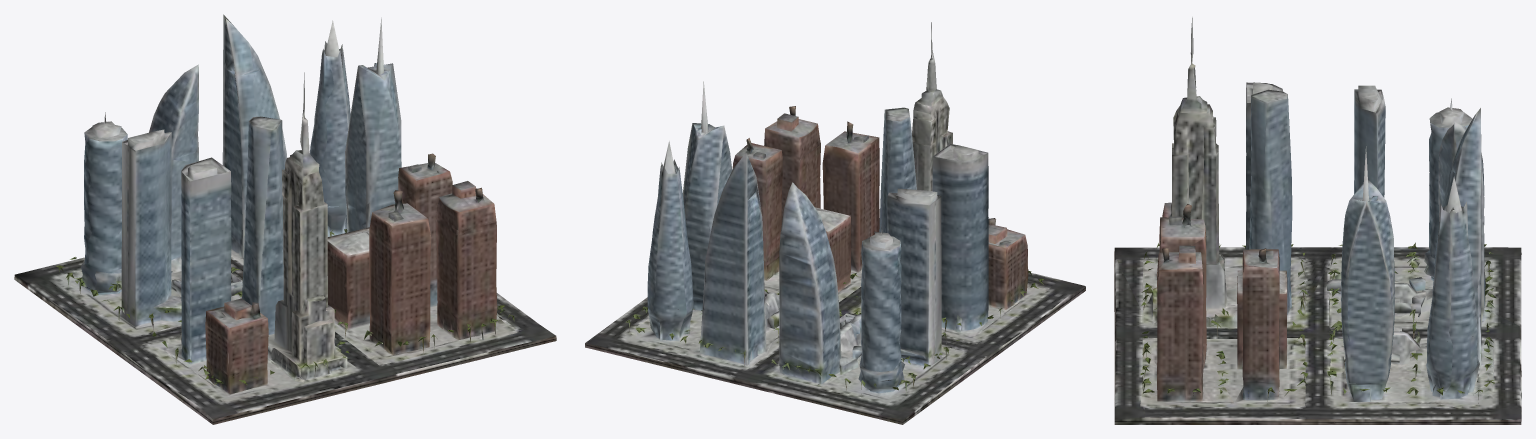
The model's file is fusion_dubai_ny_xfar.glb.
3 views of the same model, side by side, from view 1: azimuth 30°, elevation 25°; view 2: azimuth 150°, elevation 25°; view 3: azimuth 270°, elevation 25° (orthographic). The views are drawn at different scales.
Visible parts, largest first — view 1: fusion_dubai_ny; view 2: fusion_dubai_ny; view 3: fusion_dubai_ny.
Part boxes in pixels (<box>): fusion_dubai_ny: <box>14,14,556,424</box>; fusion_dubai_ny: <box>585,22,1085,424</box>; fusion_dubai_ny: <box>1114,17,1521,424</box>.
Size of the model in its own units: 1.9 by 1.56 by 1.9.
Materials: 1 (1 with a texture image).
